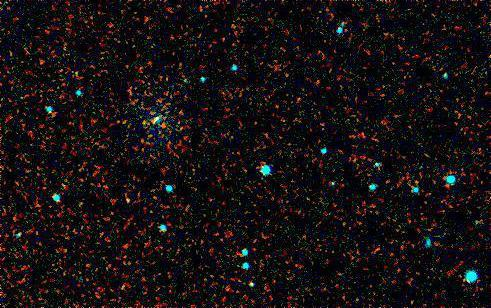star: (48, 167, 78, 197)
